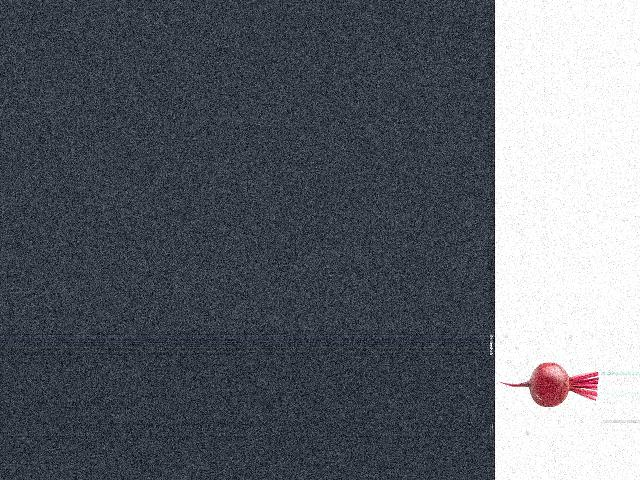beet: (497, 363, 598, 407)
